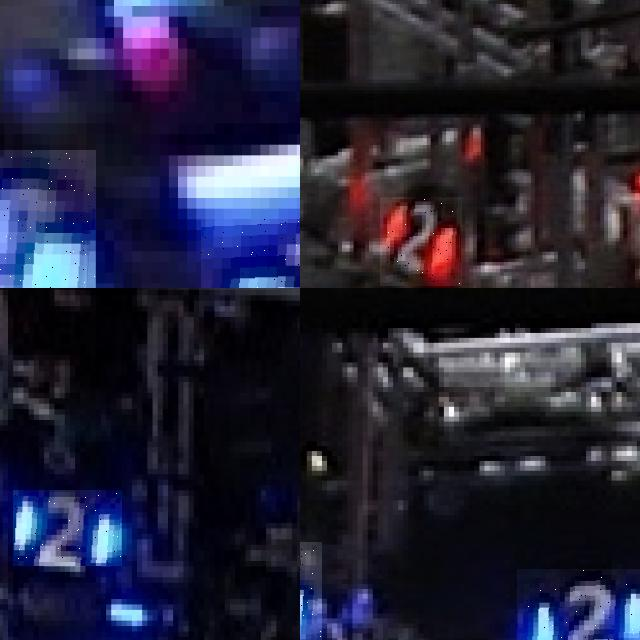B2: (517, 569, 640, 640), (13, 491, 122, 566), (300, 542, 322, 640)
B3: (0, 149, 95, 288)
R2: (380, 197, 462, 286)
